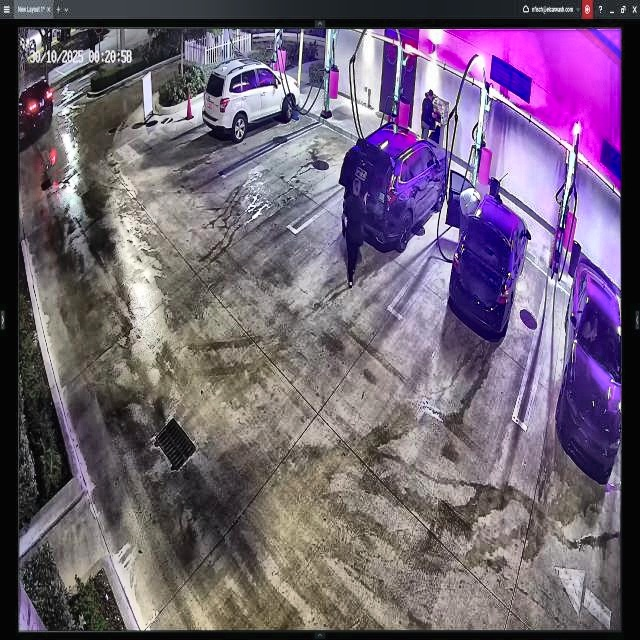Car: (450, 168, 529, 342), (342, 123, 448, 251), (203, 60, 299, 141)
